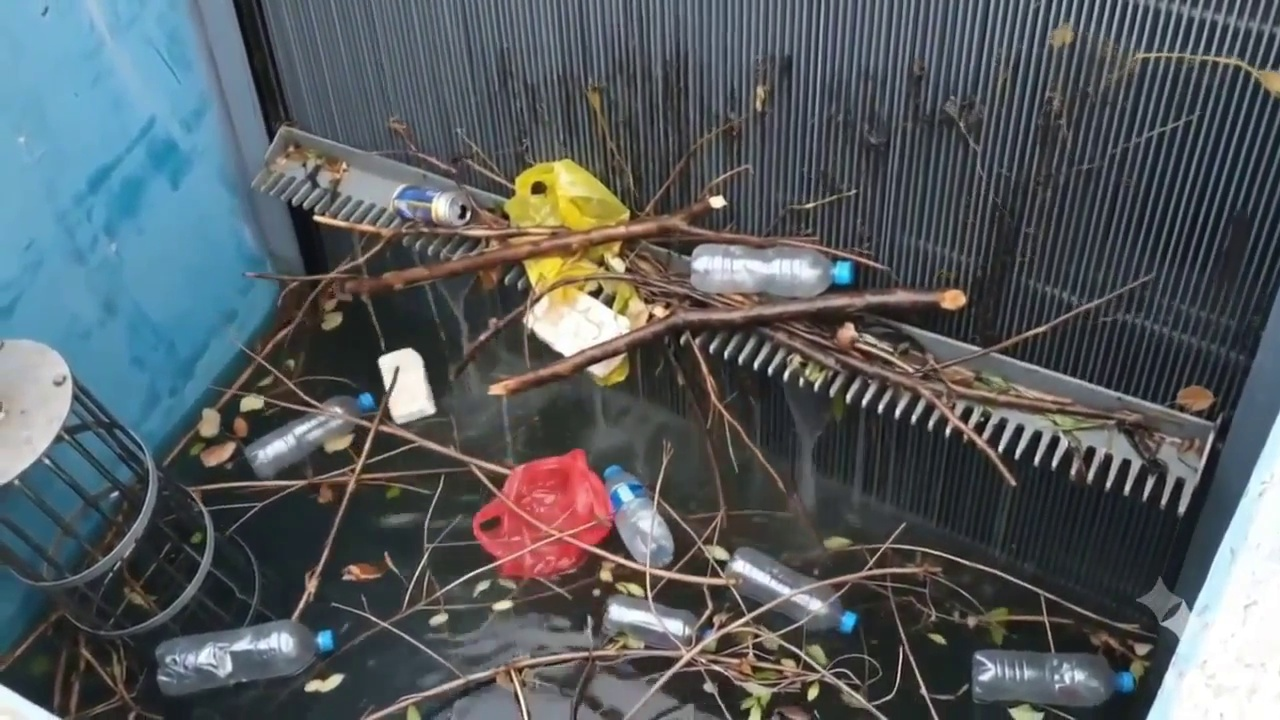debris: (341, 160, 1136, 424), (473, 450, 674, 576), (158, 621, 335, 694), (246, 393, 378, 478), (727, 548, 857, 633), (971, 649, 1135, 706), (603, 593, 711, 648), (380, 351, 435, 423)
